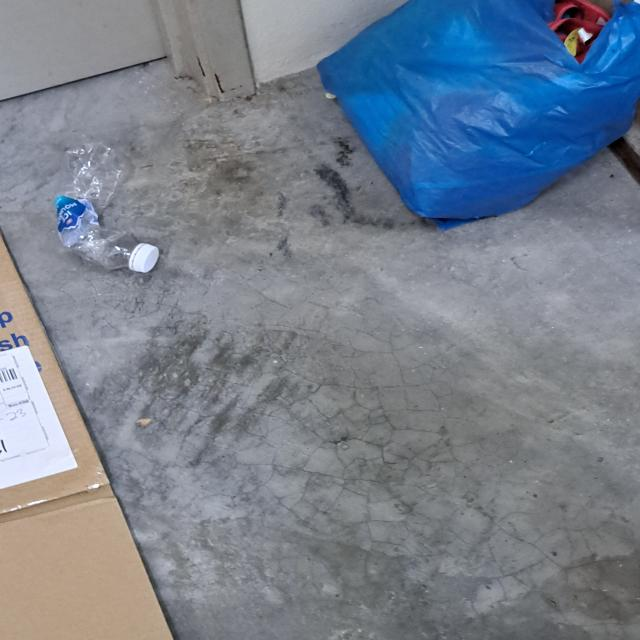cardboard: (0, 226, 178, 640)
plastic bag: (314, 0, 640, 226)
plastic bottle: (54, 142, 139, 274)
plastic bottle cap: (130, 243, 161, 272)
